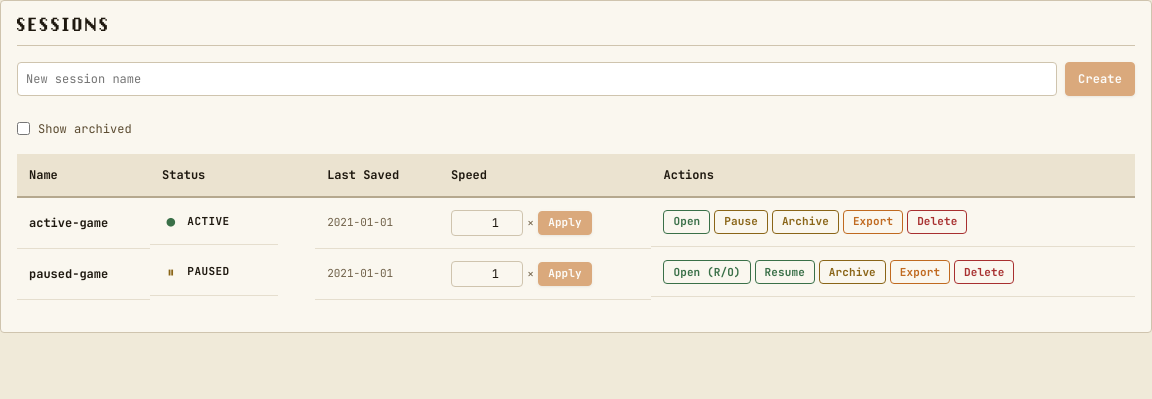
Test: SessionsPanel › displays status symbols correctly
Expected: the text "active-game" is shown, [17,196,150,248]
Expected: the text "Active" is shown, [187,213,230,229]
Click the checkbox labelled "Show archived" at (24, 128), box [17,122,30,135]
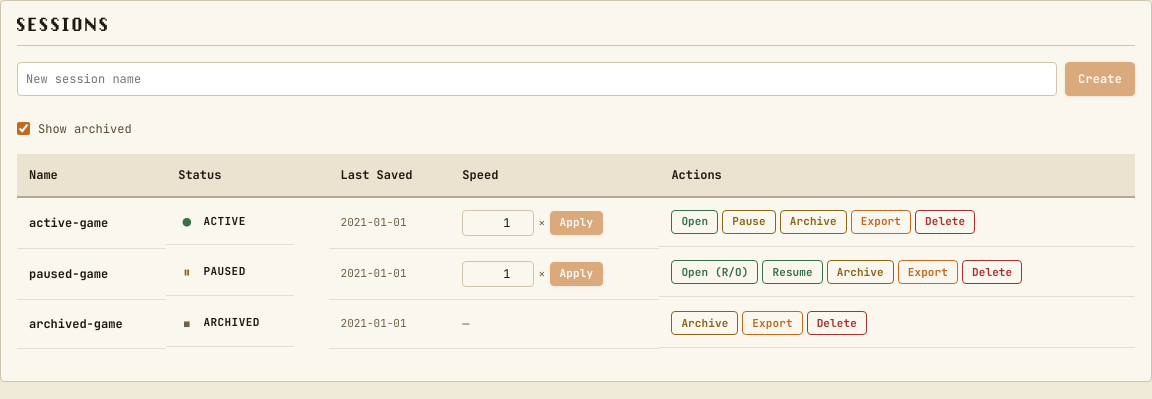
Now the text "Archived" is shown, box [204,314,260,331]
